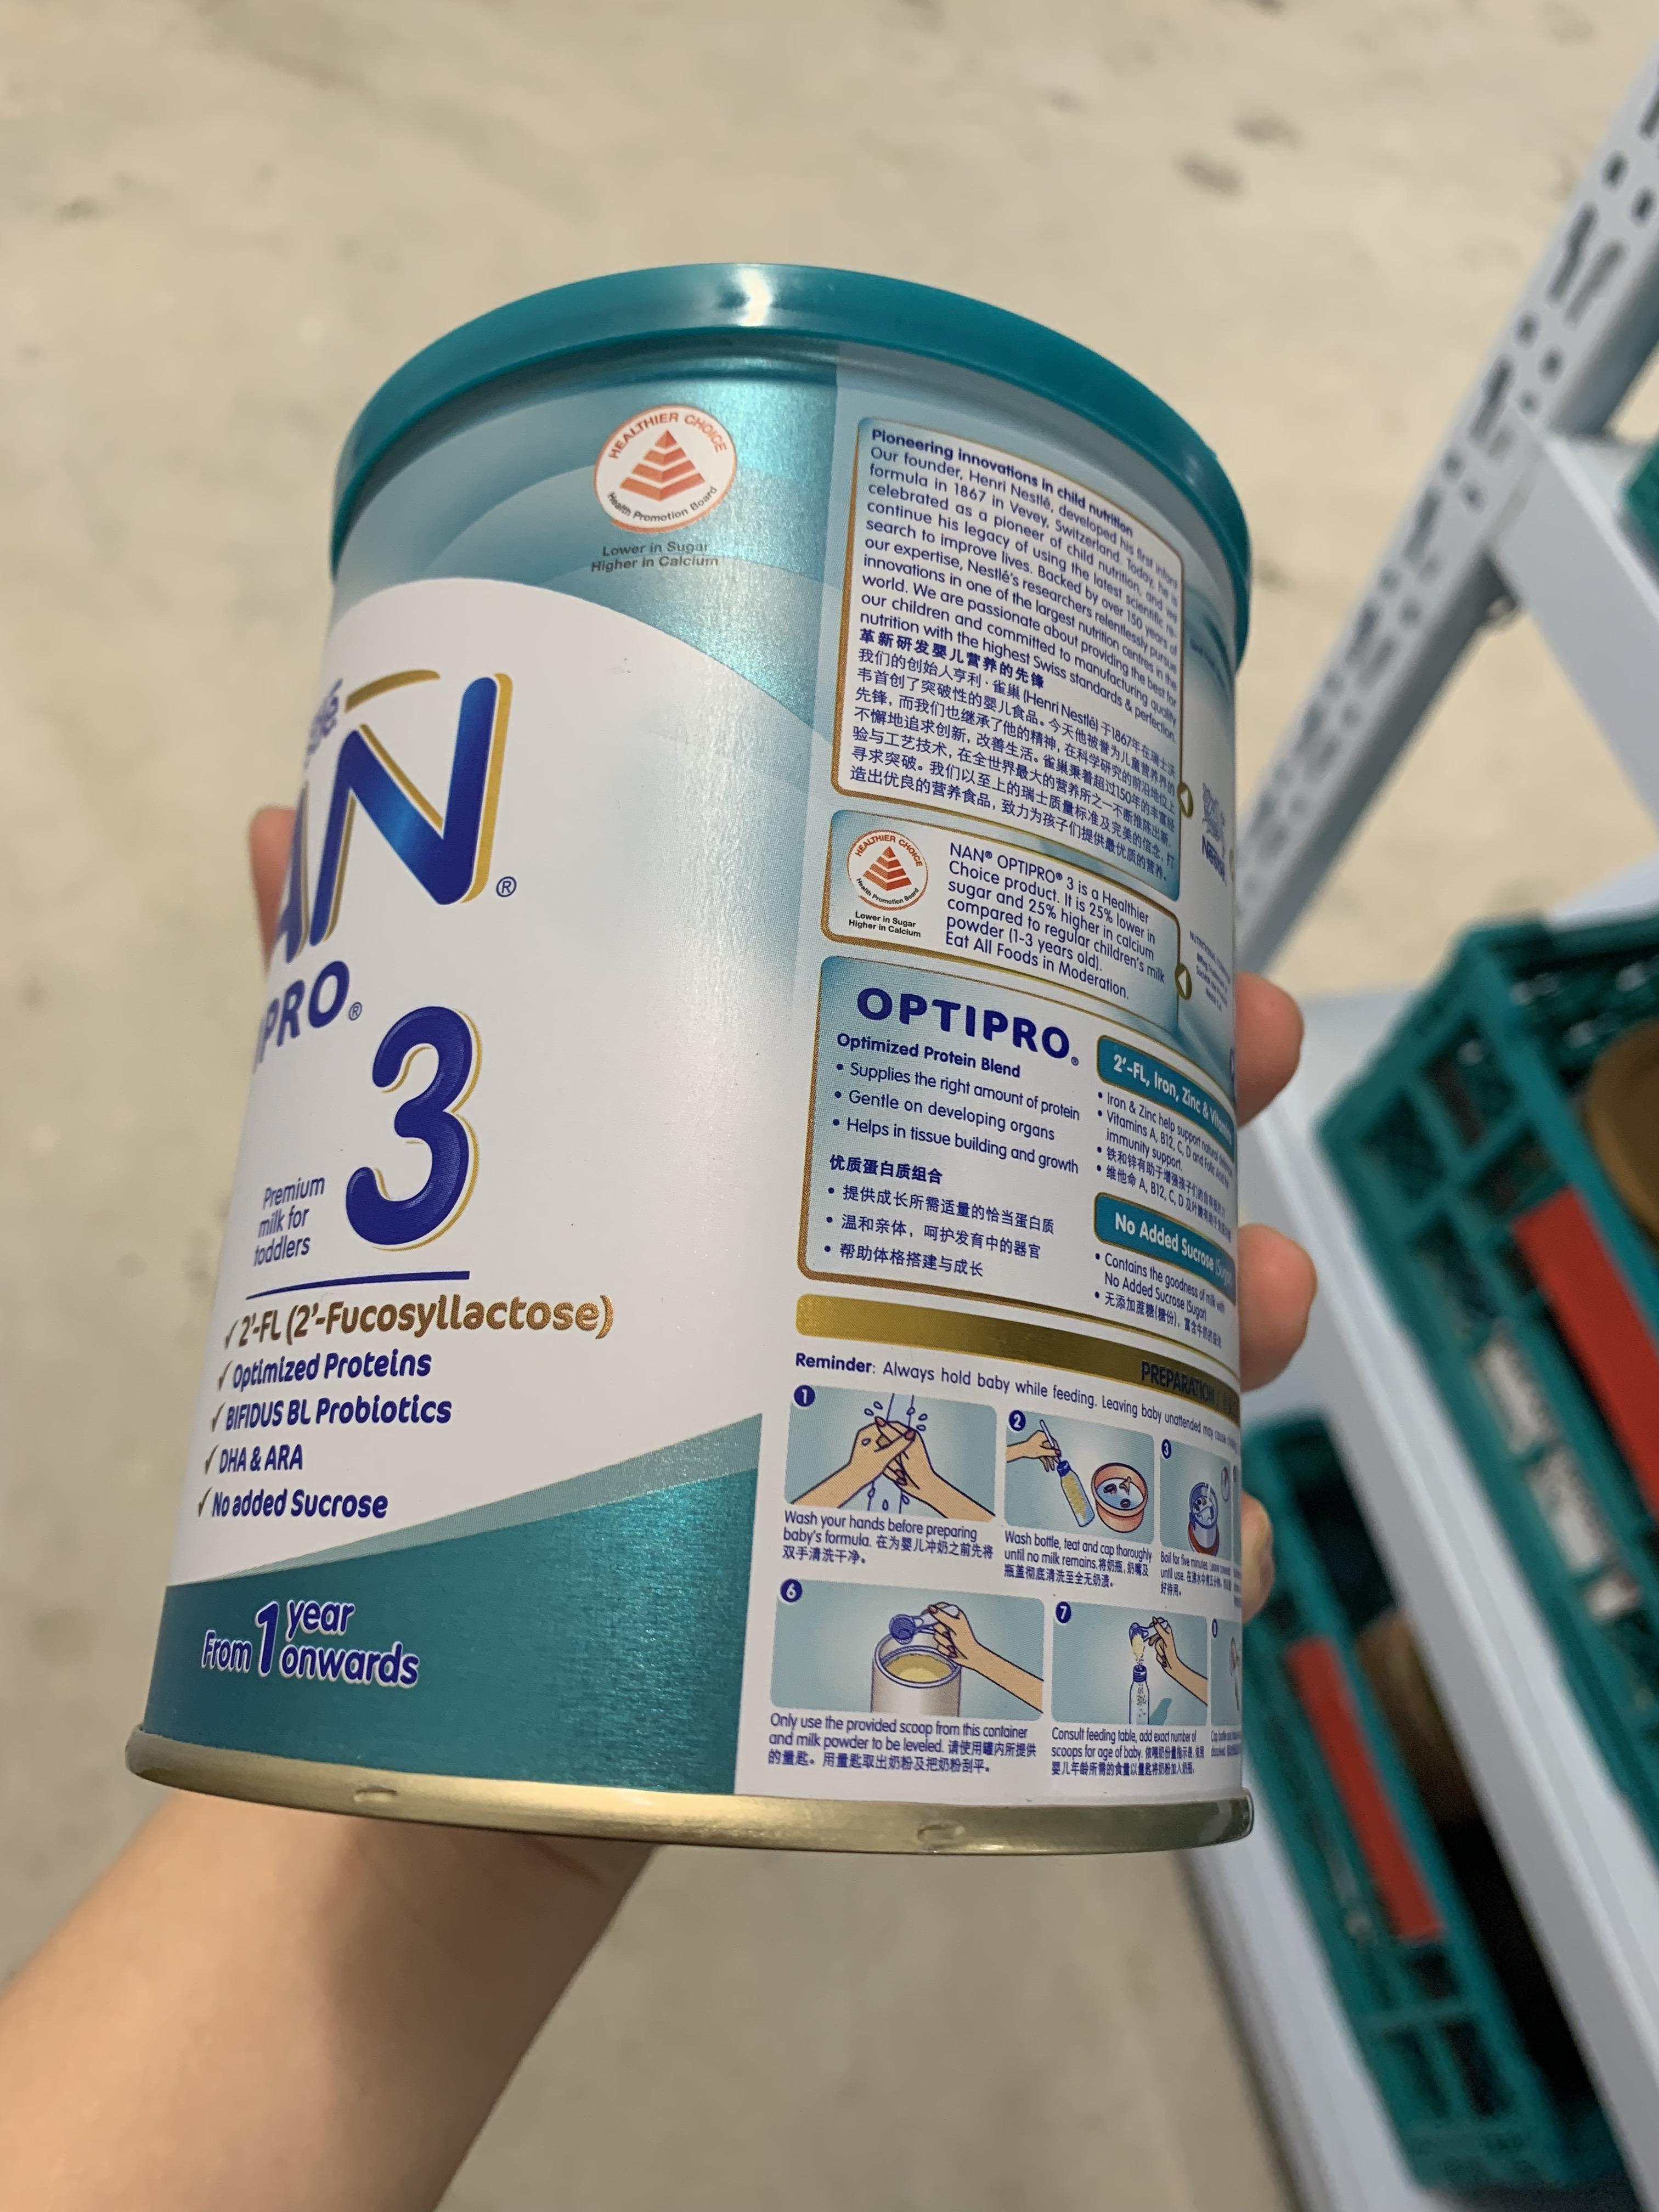object_name: (345, 392, 1201, 1785)
